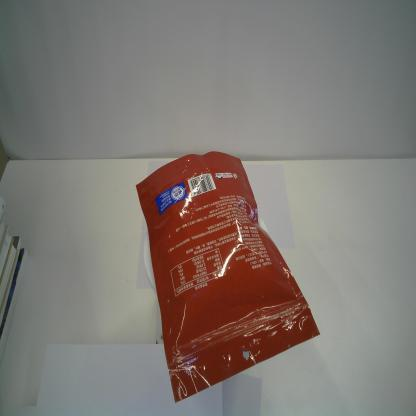Dried Food: (135, 148, 321, 402)
